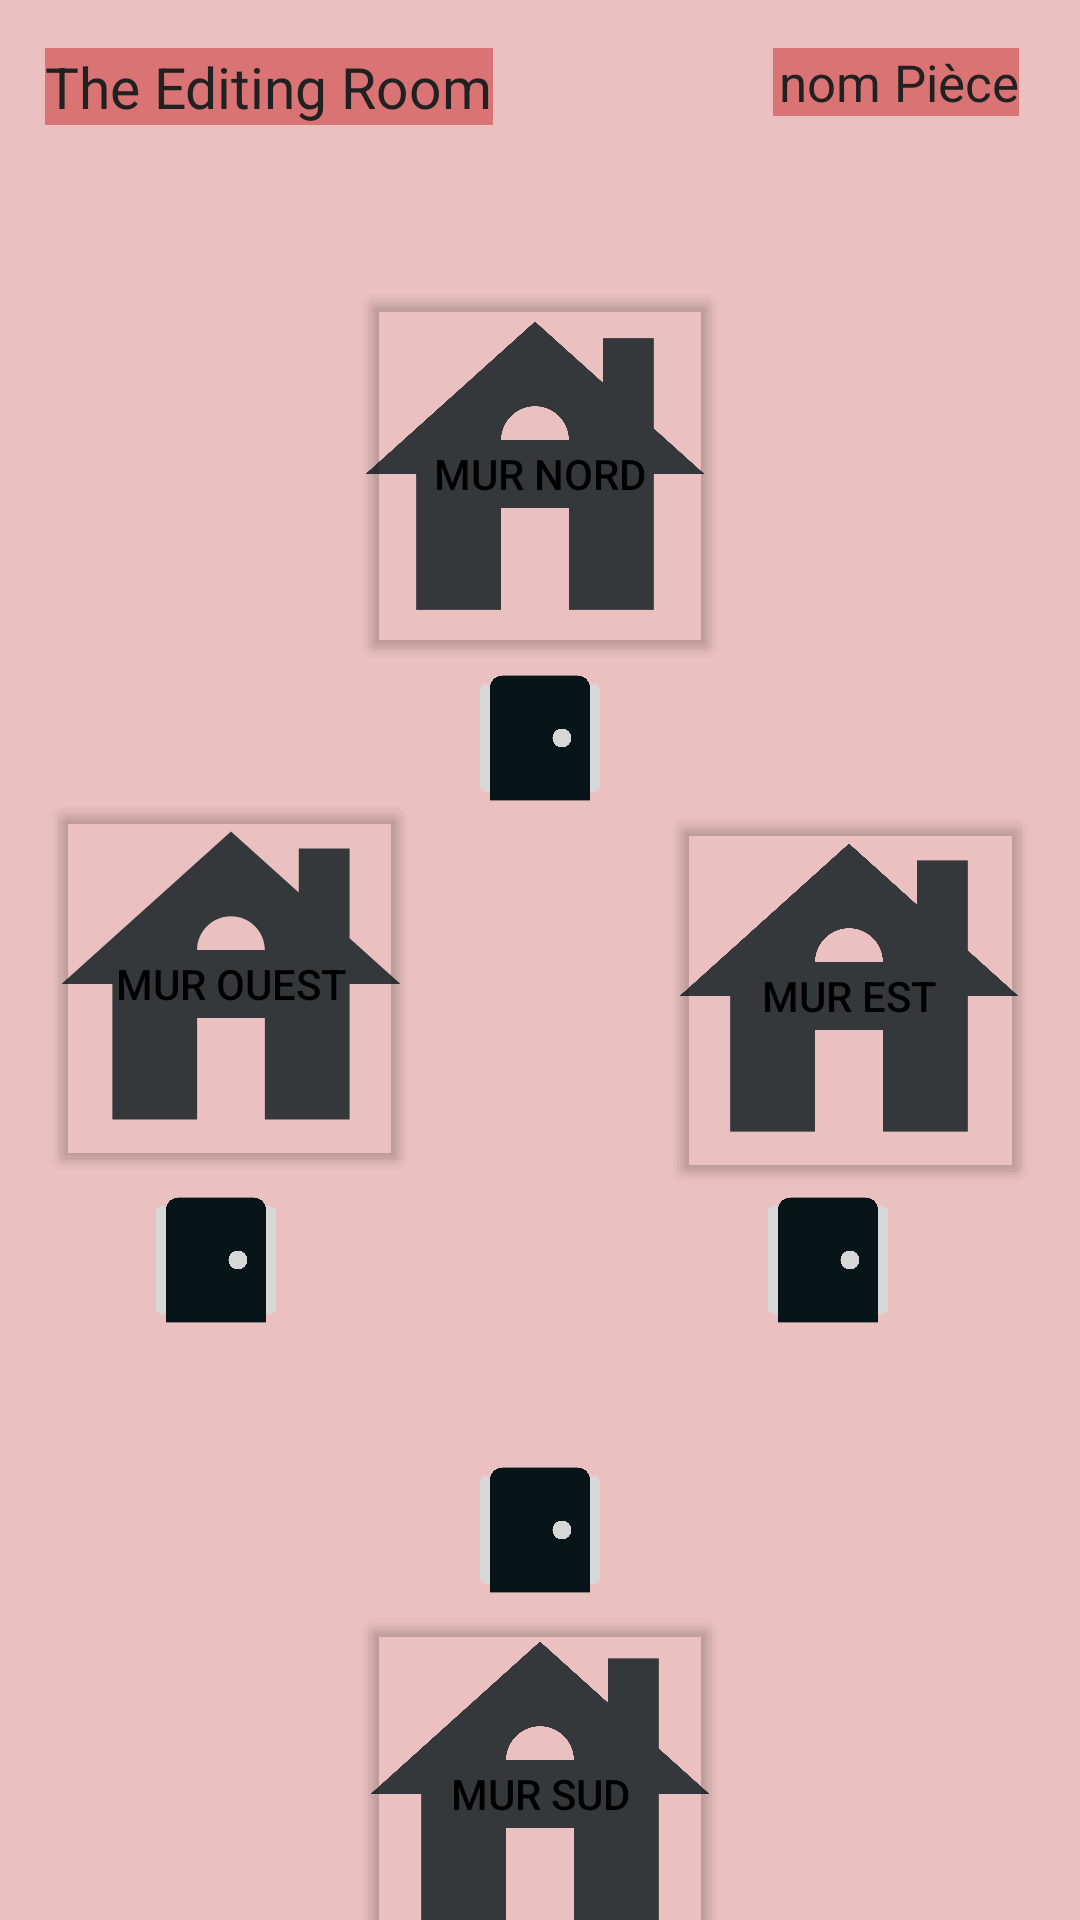

Locate icon controls on the screen. Image size 1080×1920, boxes as [x1=x1, y1=y1, x2=x2, y2=y2].
Ajouter Porte: [x1=490, y1=675, x2=590, y2=801], [x1=166, y1=1197, x2=266, y2=1323], [x1=778, y1=1197, x2=878, y2=1323], [x1=490, y1=1467, x2=590, y2=1593]
